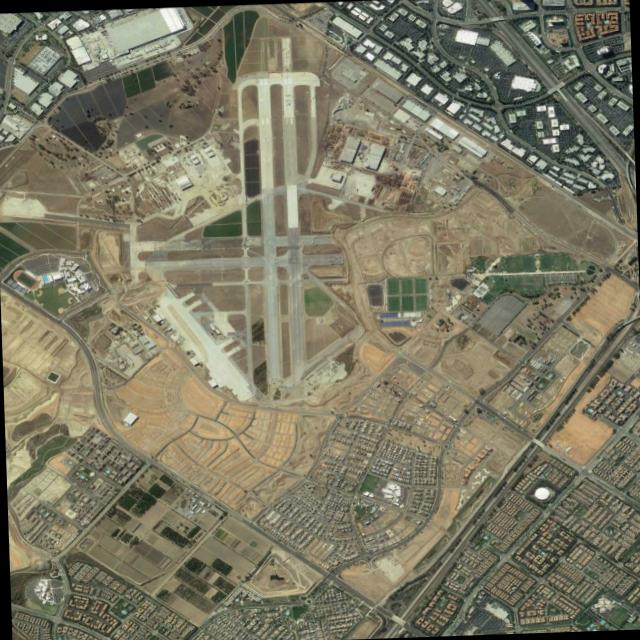storage-tank: (532, 487, 547, 499)
